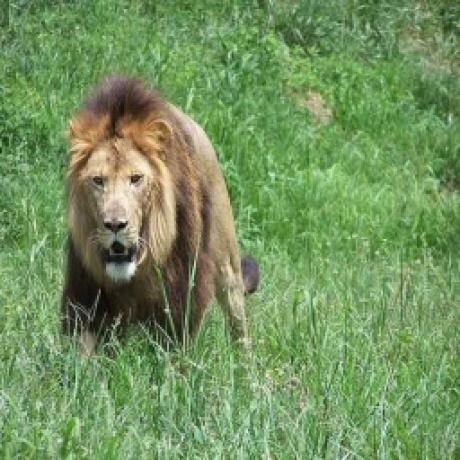Lion: (60, 75, 260, 351)
